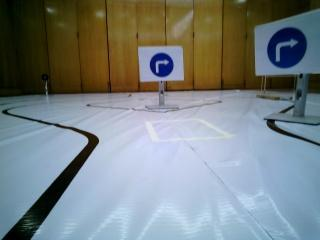right: (254, 27, 316, 70), (145, 52, 180, 81)
